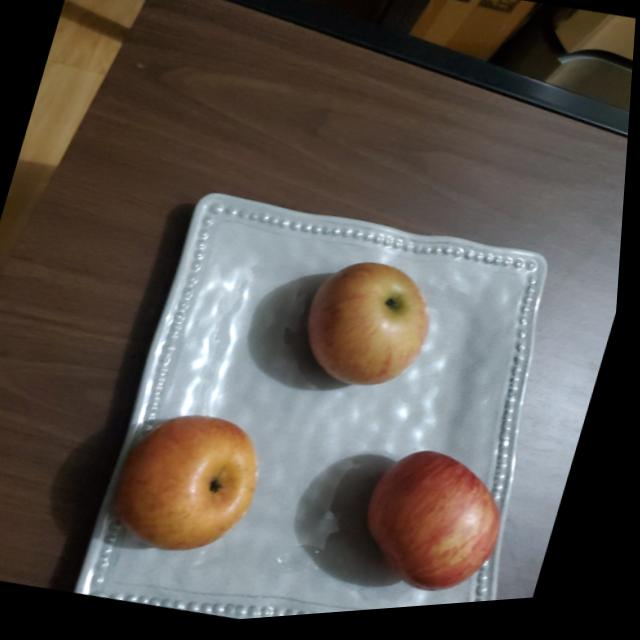apple: (110, 398, 283, 569), (353, 440, 525, 610), (296, 253, 453, 410)
